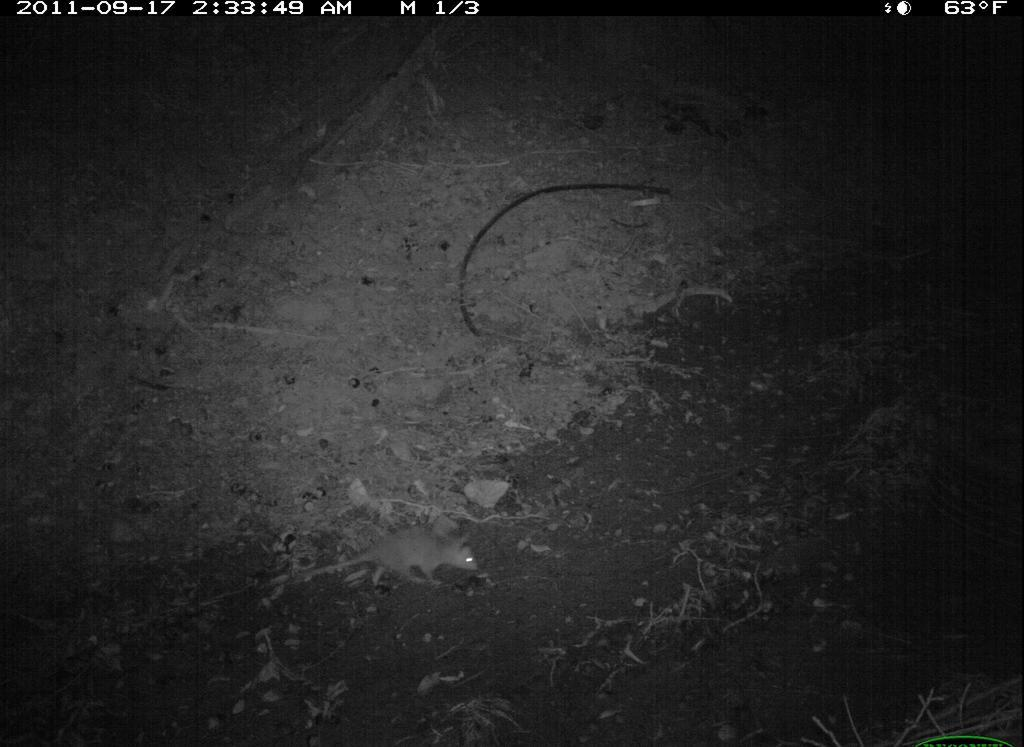opossum: (283, 525, 493, 598)
